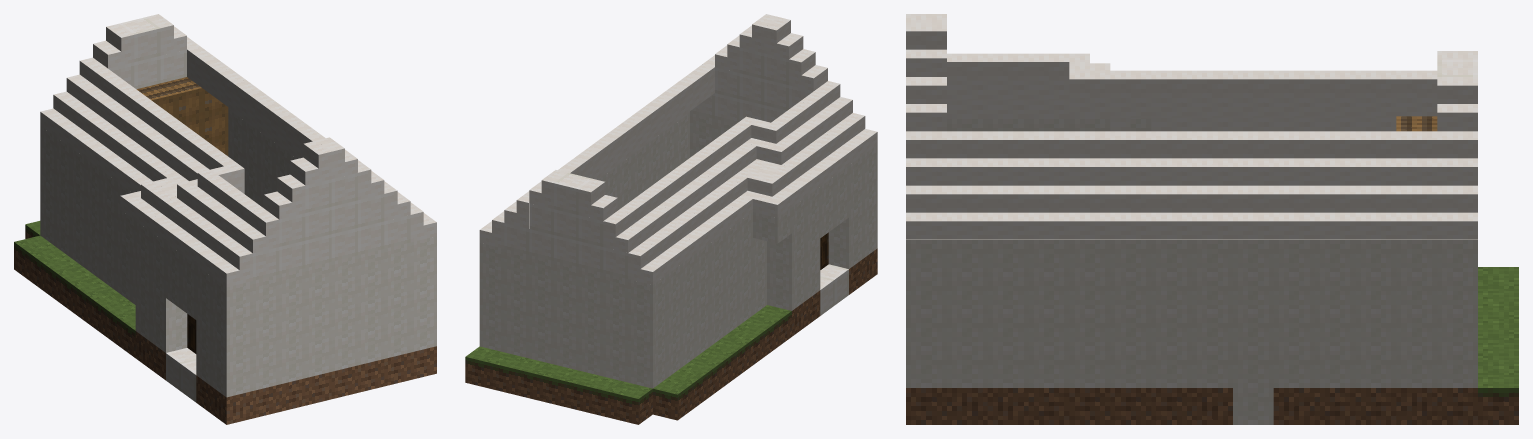
Rendered from Maquete_Noah Przyvitoski Janosky.glb.
3 renders of one model, left to right at view 1: azimuth 30°, elevation 25°; view 2: azimuth 150°, elevation 25°; view 3: azimuth 270°, elevation 25°, orthographic. The views are drawn at different scales.
Parts seen in each view (by area): view 1: node_2; view 2: node_2, node_3; view 3: node_2, node_3.
Part boxes in pixels (x1,y1,x2,y2): node_2: (14,14,436,424); node_2: (479,14,877,420); node_3: (465,346,652,424); node_2: (906,14,1477,424); node_3: (1478,267,1518,424).
Size of the model in its own units: 8 by 9 by 15.
2 materials, 2 textured.
